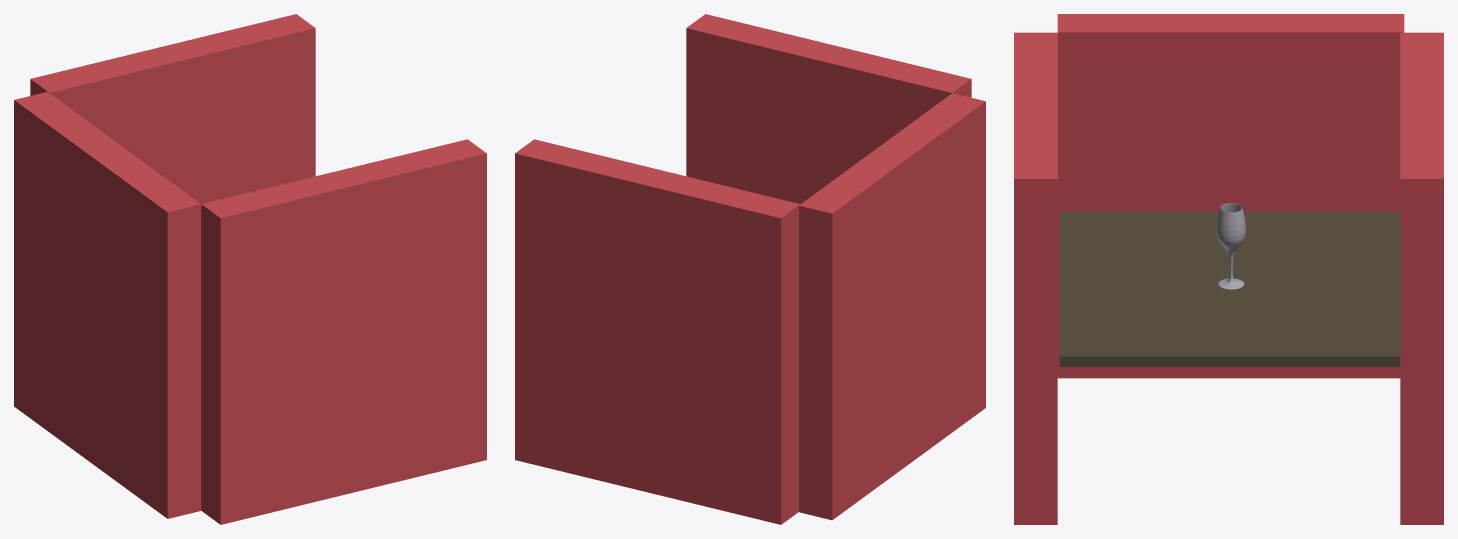
File: WineGlasses7.obj
3 views of the same model, side by side, from view 1: azimuth 30°, elevation 25°; view 2: azimuth 150°, elevation 25°; view 3: azimuth 270°, elevation 25° (orthographic). The views are drawn at different scales.
Parts seen in each view (by area): view 1: Cube.002_Cube.007, Cube.003_Cube.006, Cube.001_Cube.004; view 2: Cube.001_Cube.004, Cube.003_Cube.006, Cube.002_Cube.007; view 3: Cube.003_Cube.006, Plane_Plane.004, Cube.002_Cube.007, Cube.001_Cube.004, Circle.
Boxes of the visible parts, left/top/right/bottom form: Cube.002_Cube.007: left=201, top=139, right=486, bottom=524; Cube.003_Cube.006: left=14, top=92, right=201, bottom=518; Cube.001_Cube.004: left=30, top=14, right=315, bottom=204; Cube.001_Cube.004: left=515, top=139, right=800, bottom=524; Cube.003_Cube.006: left=799, top=93, right=985, bottom=520; Cube.002_Cube.007: left=686, top=14, right=971, bottom=203; Cube.003_Cube.006: left=1057, top=14, right=1404, bottom=378; Plane_Plane.004: left=1059, top=211, right=1400, bottom=366; Cube.002_Cube.007: left=1014, top=32, right=1057, bottom=524; Cube.001_Cube.004: left=1400, top=32, right=1443, bottom=524; Circle: left=1216, top=203, right=1245, bottom=289.
Bounding box in the file's own units: 17.93 × 17.53 × 19.73.
